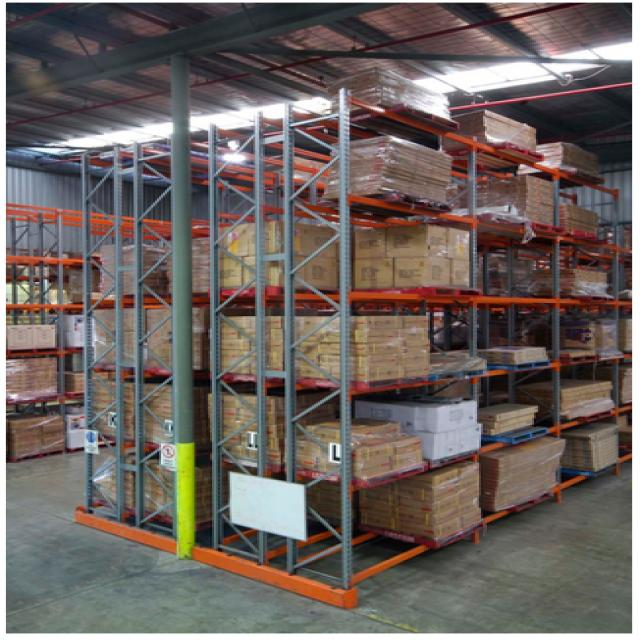Palette: (369, 190, 450, 215), (412, 280, 491, 302), (342, 102, 475, 114), (13, 449, 78, 462)
